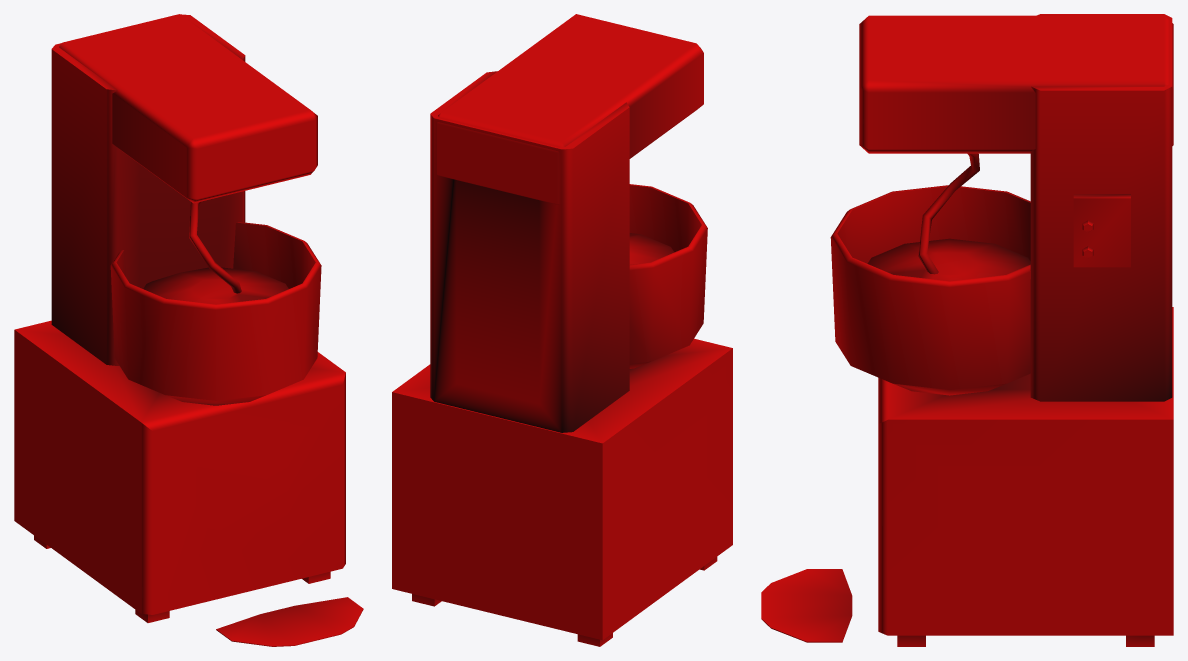
Rendered from CI_Bakery_DoughMixer.glb.
3 views of the same model, side by side, from view 1: azimuth 30°, elevation 25°; view 2: azimuth 150°, elevation 25°; view 3: azimuth 270°, elevation 25° (orthographic). The views are drawn at different scales.
Visible parts, largest first — view 1: CI_Bakery_DoughMixer; view 2: CI_Bakery_DoughMixer; view 3: CI_Bakery_DoughMixer.
Part boxes in pixels (x1=…): CI_Bakery_DoughMixer: x1=14, y1=14, x2=363, y2=646; CI_Bakery_DoughMixer: x1=392, y1=14, x2=732, y2=646; CI_Bakery_DoughMixer: x1=761, y1=14, x2=1173, y2=646.
Bounding box in the file's own units: 0.56 × 1.27 × 0.8657.
